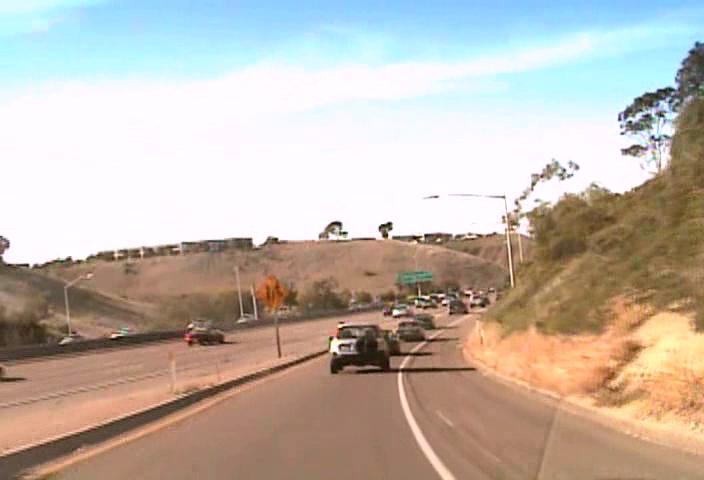addedLane: (255, 274, 289, 308)
